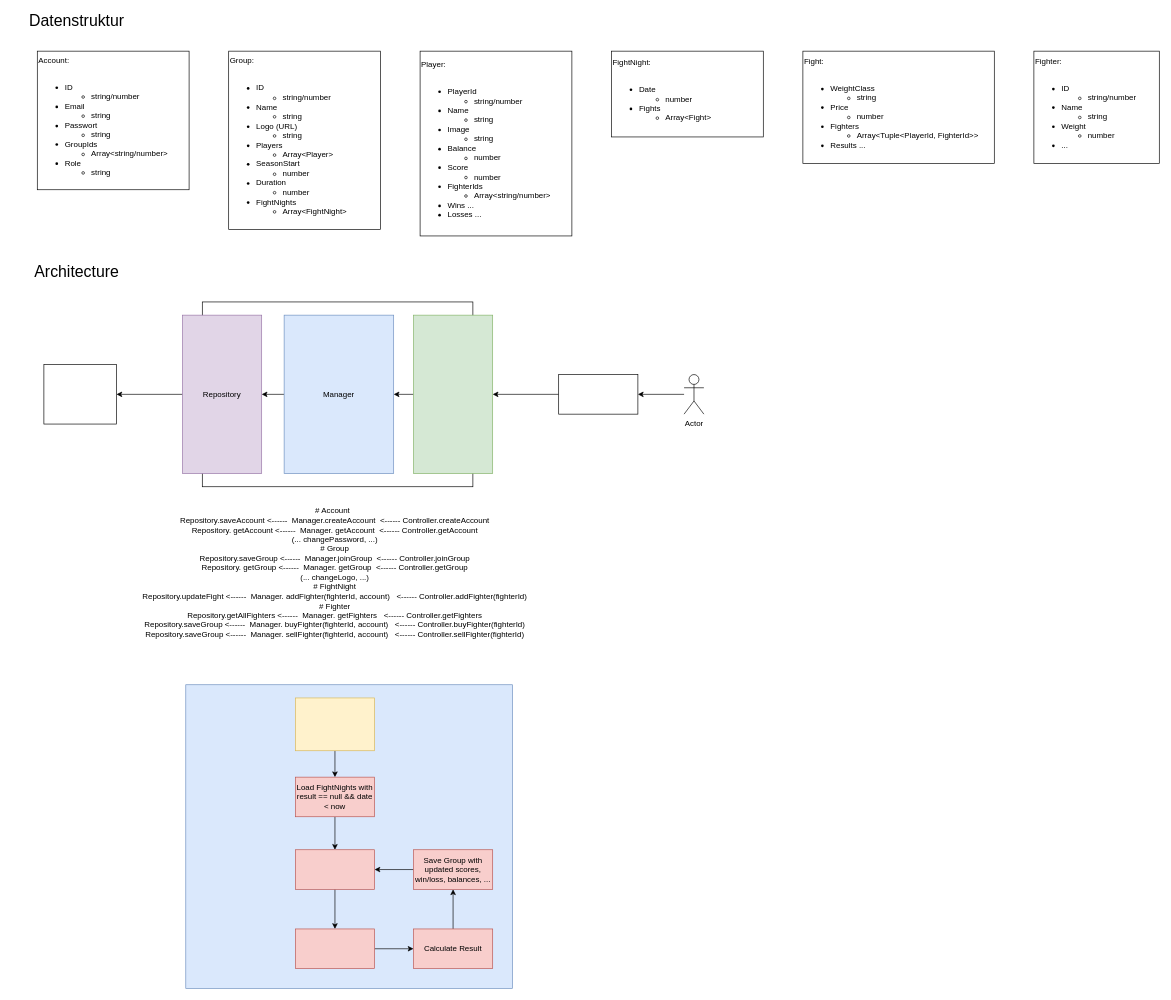
Some shapes in this 1171 by 1000 pixel diagram are drawn without their labels. Here are the shapes that lost their labels. From the top down, the centre of each, then its label:
At point 79,394: "MongoDB".
At point 453,394: "Controller".
At point 598,394: "Frontend".
At point 335,724: "FightCronJob every 1h or 10min or even more frequent".
At point 335,869: "for each FightNight".
At point 335,948: "Load Fighters".
